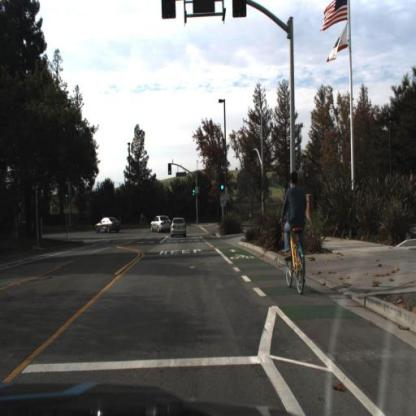biker: (279, 171, 310, 295)
car: (95, 215, 120, 235), (95, 216, 122, 234), (150, 216, 173, 234), (171, 218, 189, 237)
trafficLight: (192, 185, 197, 199), (193, 187, 197, 197)
trafficLight-Green: (220, 176, 226, 194), (221, 177, 226, 193)
trafficLight-GreenLeft: (169, 163, 174, 175), (169, 163, 173, 177), (66, 191, 70, 204)
